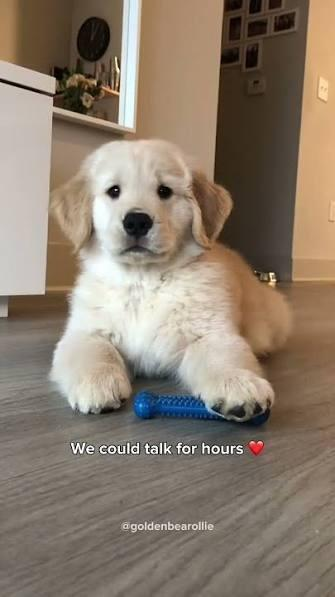puppy-dog: (46, 136, 294, 425)
